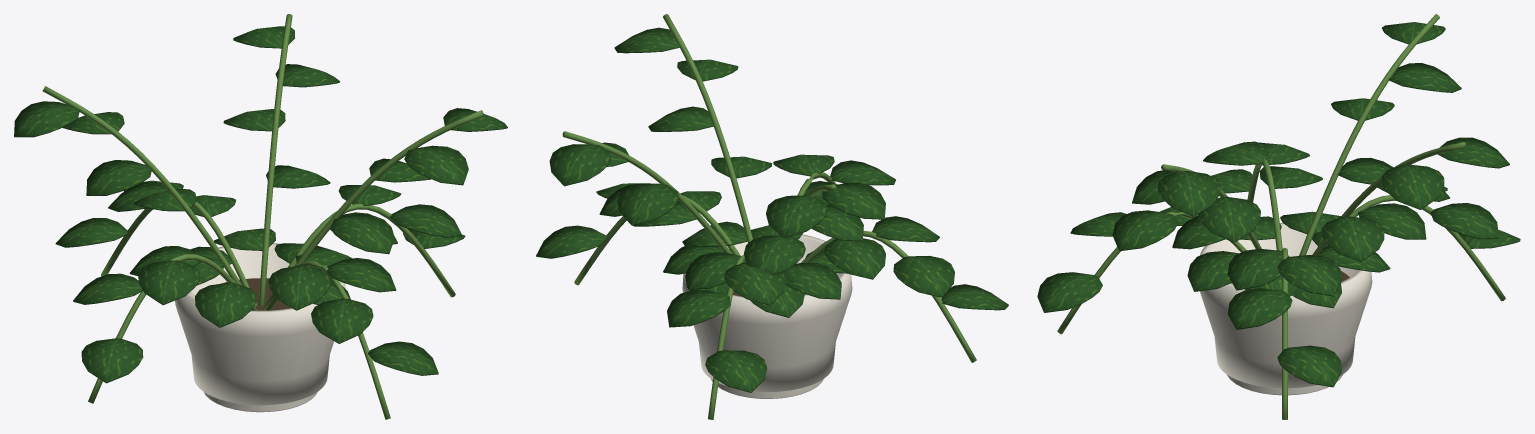
Rendered from plant.glb.
The picture shows the model from 3 angles, left to right: view 1: azimuth 30°, elevation 25°; view 2: azimuth 150°, elevation 25°; view 3: azimuth 270°, elevation 25°; orthographic projection. The views are drawn at different scales.
Visible parts, largest first — view 1: Heart shaped pothos leaves, Plain ceramic planter, Trailing pothos vine, Soil surface; view 2: Heart shaped pothos leaves, Plain ceramic planter, Trailing pothos vine; view 3: Heart shaped pothos leaves, Plain ceramic planter, Trailing pothos vine.
Part boxes in pixels (<box>): Heart shaped pothos leaves: <box>14,26,507,383</box>; Plain ceramic planter: <box>175,243,345,412</box>; Trailing pothos vine: <box>42,14,483,419</box>; Soil surface: <box>220,278,290,310</box>; Heart shaped pothos leaves: <box>536,27,1008,392</box>; Plain ceramic planter: <box>682,234,852,398</box>; Trailing pothos vine: <box>562,14,976,419</box>; Heart shaped pothos leaves: <box>1037,22,1520,387</box>; Plain ceramic planter: <box>1200,223,1372,395</box>; Trailing pothos vine: <box>1057,14,1505,419</box>.
Size of the model in its own units: 0.6242 by 0.4 by 0.6115.
Materials: 4 (2 with a texture image).
